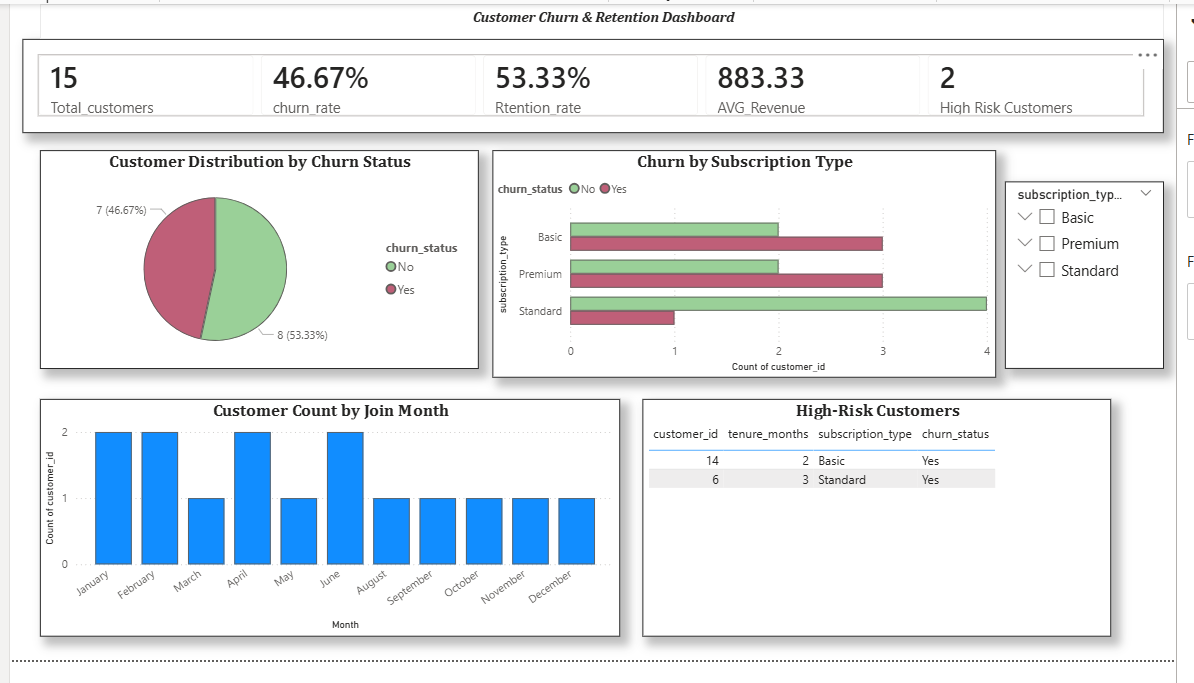

The dashboard page shown, as its layout file describes it:
{"tool":"powerbi","page":{"name":"Page 1","canvas":[1280,720],"ordinal":0},"visuals":[{"type":"cardVisual","fields":{"Data":["Customers.Total_customers","Customers.churn_rate","Customers.Rtention_rate","Customers.AVG_Revenue","Customers.High Risk Customers"]},"box":[13.7,38.4,1252.8,102.9],"z":0},{"type":"pieChart","title":"Customer Distribution by Churn Status","fields":{"Y":["CountNonNull(Customers.customer_id)"],"Category":["Customers.churn_status"]},"box":[32.9,160.5,481.6,240.1],"z":1},{"type":"clusteredBarChart","title":"Churn by Subscription Type","fields":{"Category":["Customers.subscription_type"],"Y":["CountNonNull(Customers.customer_id)"],"Series":["Customers.churn_status"]},"box":[529.7,160.5,553,249.7],"z":2},{"type":"columnChart","title":"Customer Count by Join Month","fields":{"Y":["CountNonNull(Customers.customer_id)"],"Category":["Customers.join_date.Variation.Date Hierarchy.Month"]},"box":[32.9,433.6,636.7,260.7],"z":3},{"type":"tableEx","title":"High-Risk Customers","fields":{"Values":["Customers.customer_id","Customers.tenure_months","Customers.subscription_type","Customers.churn_status"]},"box":[694.3,433.6,514.6,260.7],"z":4},{"type":"slicer","fields":{"Values":["Customers.subscription_type","Customers.gender"]},"box":[1092.3,194.9,174.3,205.8],"z":5},{"type":"textbox","box":[32.9,0,1233.6,38.4],"z":6}]}

Visuals, with their boxes in screenshot pixels (x1, y1, x2, y2):
cardVisual - Customers.Total_customers x Customers.churn_rate: 16, 35, 1168, 130
"Customer Distribution by Churn Status" pieChart: 33, 148, 476, 369
"Churn by Subscription Type" clusteredBarChart: 490, 148, 999, 377
"Customer Count by Join Month" columnChart: 33, 399, 619, 639
"High-Risk Customers" tableEx: 642, 399, 1115, 639
slicer - Customers.subscription_type x Customers.gender: 1008, 179, 1168, 369
textbox: 33, 0, 1168, 35
